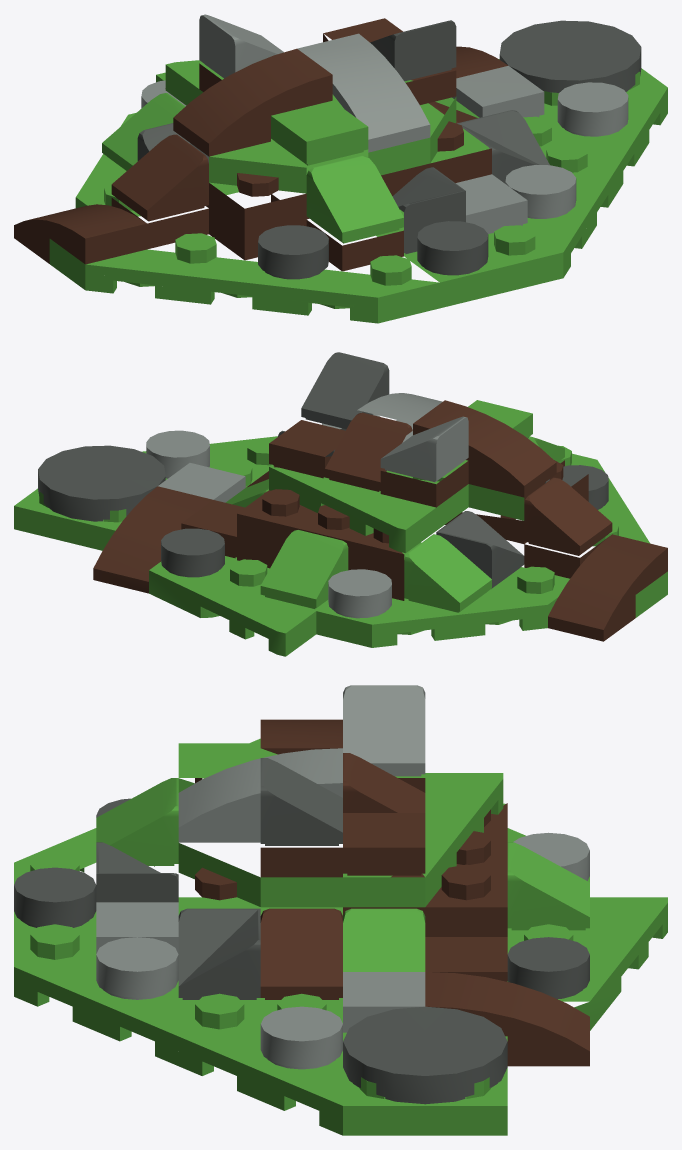
The model's file is mound1.glb.
3 renders of one model, top to bottom at view 1: azimuth 30°, elevation 25°; view 2: azimuth 150°, elevation 25°; view 3: azimuth 270°, elevation 25°, orthographic. The views are drawn at different scales.
Parts seen in each view (by area): view 1: body; view 2: body; view 3: body.
Boxes of the visible parts, <box> form: body: <box>14,14,667,323</box>; body: <box>14,352,667,656</box>; body: <box>14,685,667,1135</box>.
Bounding box in the file's own units: 10 × 2.78 × 7.95.
Materials: 1 (1 with a texture image).
